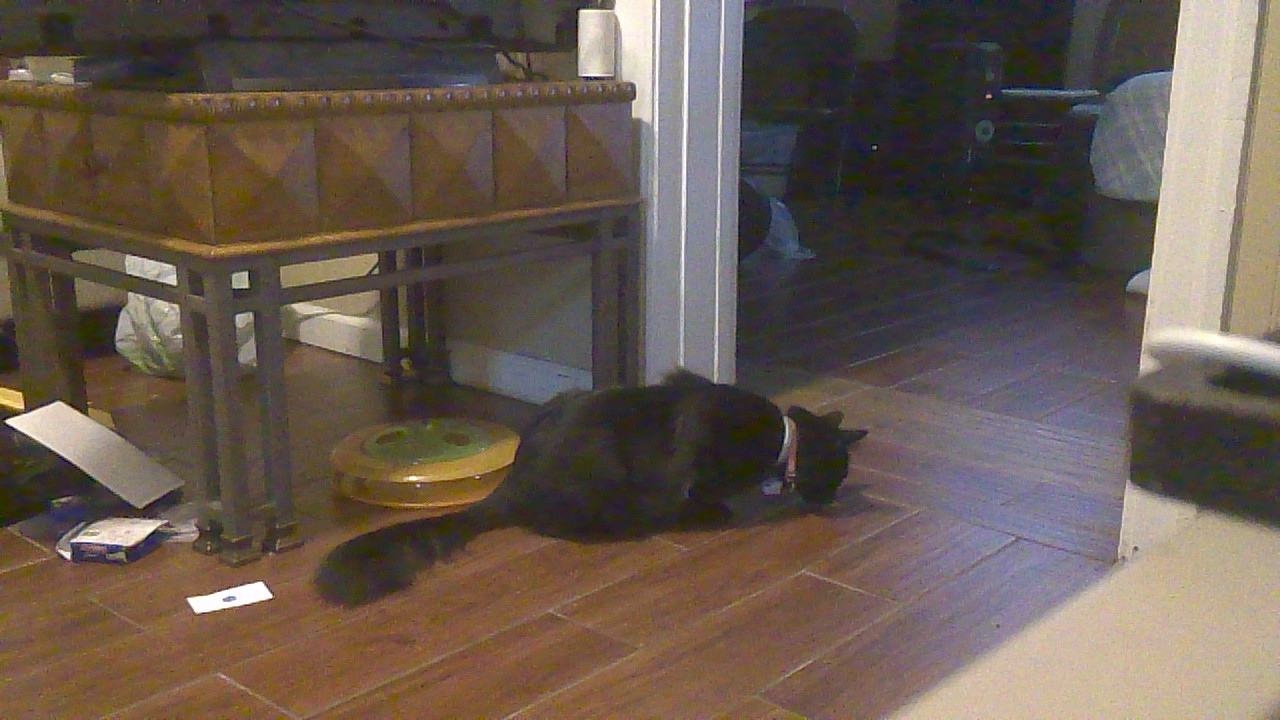cat: (312, 363, 868, 614)
